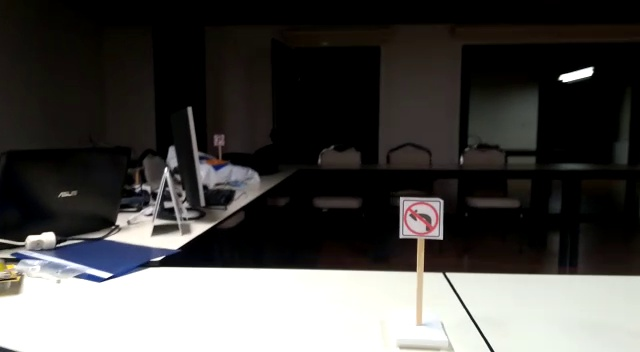sola_donulmez: (403, 201, 442, 238)
